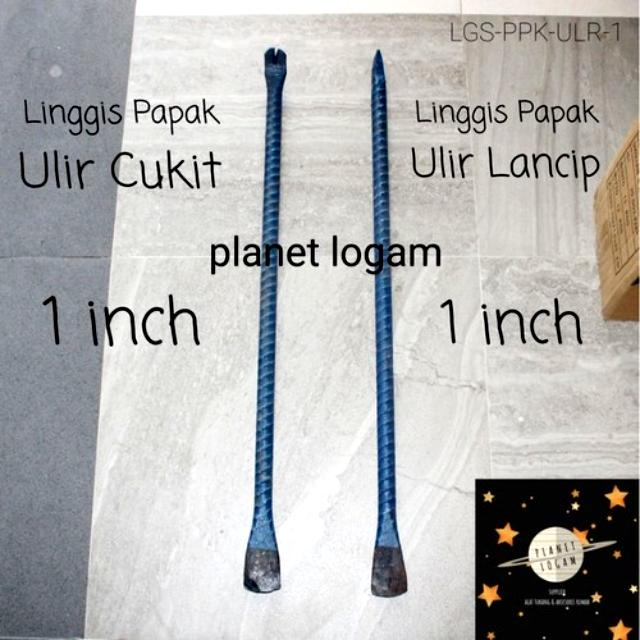crow bar: (242, 43, 290, 596), (368, 40, 410, 597)
